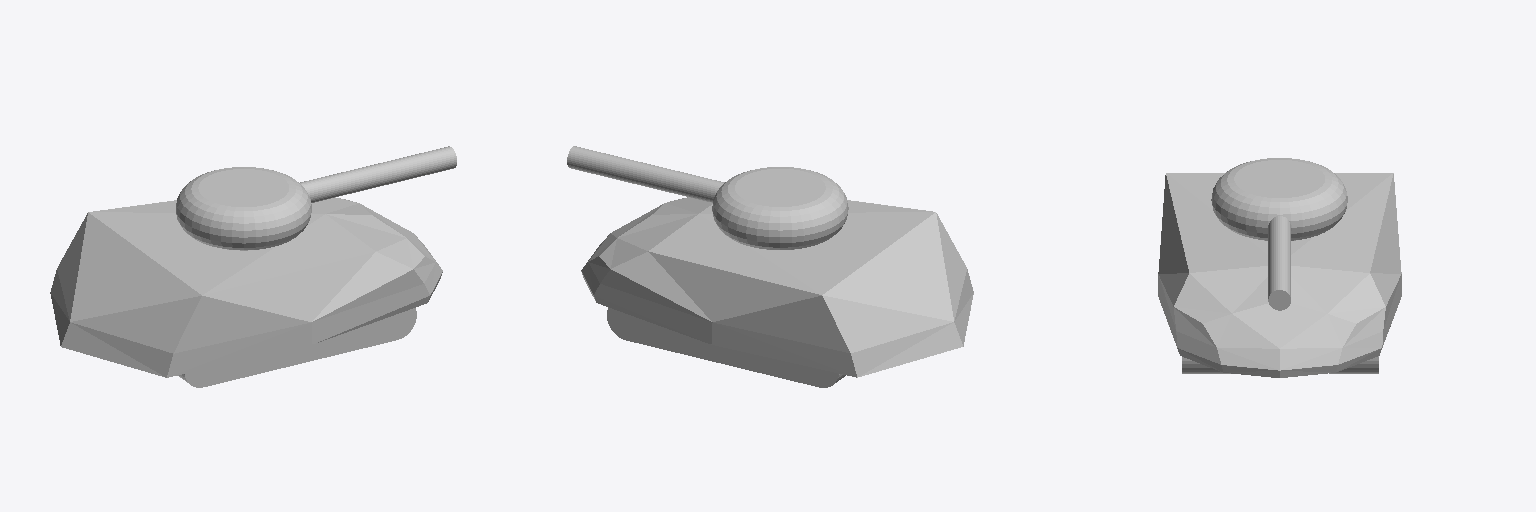
The model's file is tank.obj.
3 renders of one model, left to right at view 1: azimuth 30°, elevation 25°; view 2: azimuth 150°, elevation 25°; view 3: azimuth 270°, elevation 25°, orthographic.
Visible parts, largest first — view 1: Null chassis, Null aufbau, Null kette2, Null aufbau rohr; view 2: Null chassis, Null aufbau, Null kette1, Null aufbau rohr; view 3: Null chassis, Null aufbau, Null aufbau rohr.
Part boxes in pixels (x1,y1,x2,y2): Null chassis: (50, 197, 442, 377); Null aufbau: (176, 167, 311, 250); Null kette2: (178, 308, 416, 387); Null aufbau rohr: (300, 146, 456, 202); Null chassis: (581, 197, 973, 377); Null aufbau: (712, 167, 848, 249); Null kette1: (607, 307, 845, 387); Null aufbau rohr: (567, 146, 724, 202); Null chassis: (1158, 173, 1401, 377); Null aufbau: (1211, 158, 1347, 240); Null aufbau rohr: (1268, 216, 1290, 310).
Bounding box in the file's own units: 1.98 × 0.6871 × 1.07.